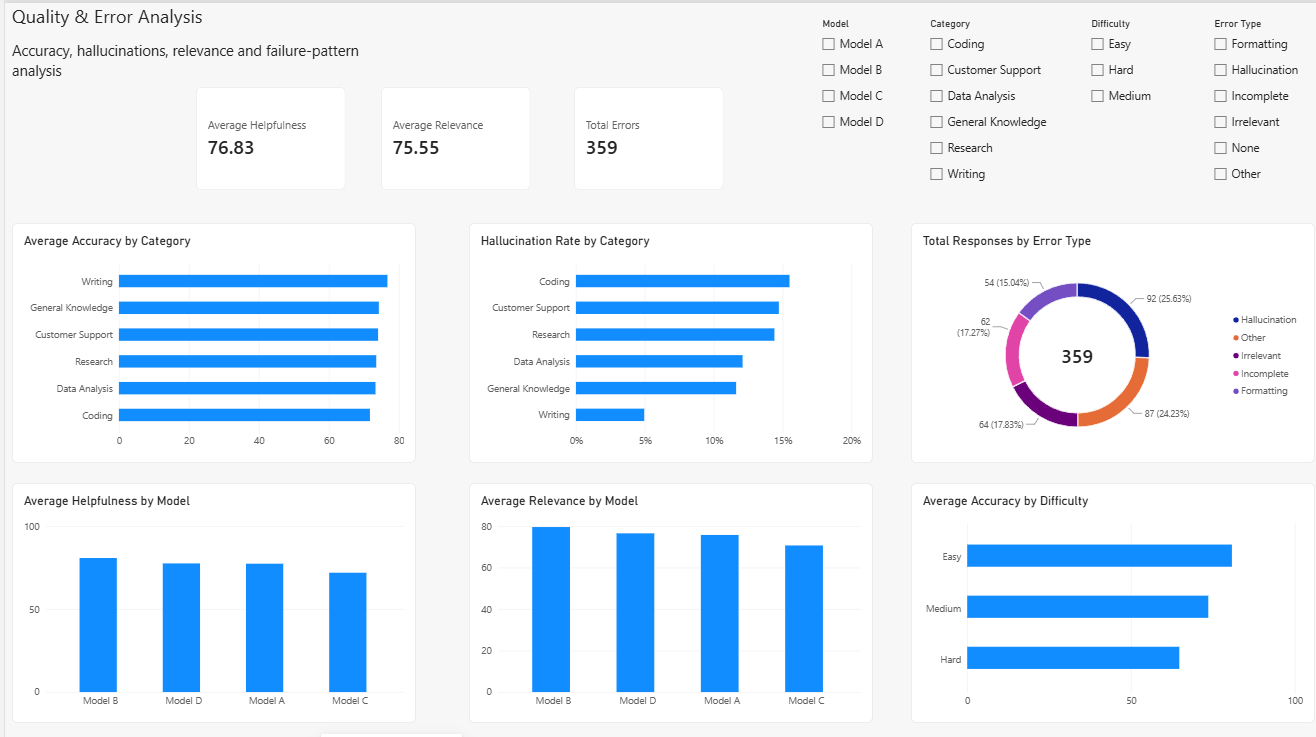

The dashboard page shown, as its layout file describes it:
{"tool":"powerbi","page":{"name":"Quality & Error Analysis","canvas":[1920,1080],"ordinal":1},"visuals":[{"type":"textbox","box":[10.2,0,557.3,122.6],"z":0},{"type":"cardVisual","fields":{"Data":["AI Responses.Average Helpfulness"]},"box":[278.7,122.6,218.8,150.3],"z":1},{"type":"cardVisual","fields":{"Data":["AI Responses.Average Relevance"]},"box":[548.6,122.6,218.8,150.3],"z":2},{"type":"cardVisual","fields":{"Data":["AI Responses.Total Errors"]},"box":[830.2,122.6,218.8,150.3],"z":3},{"type":"clusteredBarChart","fields":{"Category":["AI Responses.Category"],"Y":["AI Responses.Average Accuracy"]},"box":[10.2,321,589.4,350.2],"z":4},{"type":"barChart","fields":{"Category":["AI Responses.Category"],"Y":["AI Responses.Hallucination Rate"]},"box":[677,321,589,350],"z":5},{"type":"donutChart","title":"Error Type Distribution","fields":{"Category":["AI Responses.Error Type"],"Y":["AI Responses.Total Responses"]},"box":[1321.8,321,589,350],"z":6},{"type":"clusteredColumnChart","fields":{"Category":["AI Responses.Model"],"Y":["AI Responses.Average Relevance"]},"box":[677,700.3,589,350],"z":7},{"type":"clusteredBarChart","fields":{"Category":["AI Responses.Difficulty"],"Y":["AI Responses.Average Accuracy"]},"box":[1321.8,700.3,589,350],"z":8},{"type":"clusteredColumnChart","fields":{"Category":["AI Responses.Model"],"Y":["AI Responses.Average Helpfulness"]},"box":[10.2,700.3,589,350],"z":9},{"type":"slicer","fields":{"Values":["AI Responses.Model"]},"box":[1184.7,21.9,182.4,211.6],"z":10},{"type":"slicer","fields":{"Values":["AI Responses.Category"]},"box":[1342.2,21.9,189.7,265.5],"z":11},{"type":"slicer","fields":{"Values":["AI Responses.Difficulty"]},"box":[1577.1,21.9,140.1,211.6],"z":12},{"type":"slicer","fields":{"Values":["AI Responses.Error Type"]},"box":[1756.6,21.9,154.7,265.5],"z":13}]}

Visuals, with their boxes in screenshot pixels (x1, y1, x2, y2), scaled from the page's 1920x1080 canvas onto the 1316x737 screenshot:
textbox: [7, 0, 389, 84]
cardVisual - AI Responses.Average Helpfulness: [191, 84, 341, 186]
cardVisual - AI Responses.Average Relevance: [376, 84, 526, 186]
cardVisual - AI Responses.Total Errors: [569, 84, 719, 186]
clusteredBarChart - AI Responses.Category x AI Responses.Average Accuracy: [7, 219, 411, 458]
barChart - AI Responses.Category x AI Responses.Hallucination Rate: [464, 219, 868, 458]
"Error Type Distribution" donutChart: [906, 219, 1310, 458]
clusteredColumnChart - AI Responses.Model x AI Responses.Average Relevance: [464, 478, 868, 717]
clusteredBarChart - AI Responses.Difficulty x AI Responses.Average Accuracy: [906, 478, 1310, 717]
clusteredColumnChart - AI Responses.Model x AI Responses.Average Helpfulness: [7, 478, 411, 717]
slicer - AI Responses.Model: [812, 15, 937, 159]
slicer - AI Responses.Category: [920, 15, 1050, 196]
slicer - AI Responses.Difficulty: [1081, 15, 1177, 159]
slicer - AI Responses.Error Type: [1204, 15, 1310, 196]
